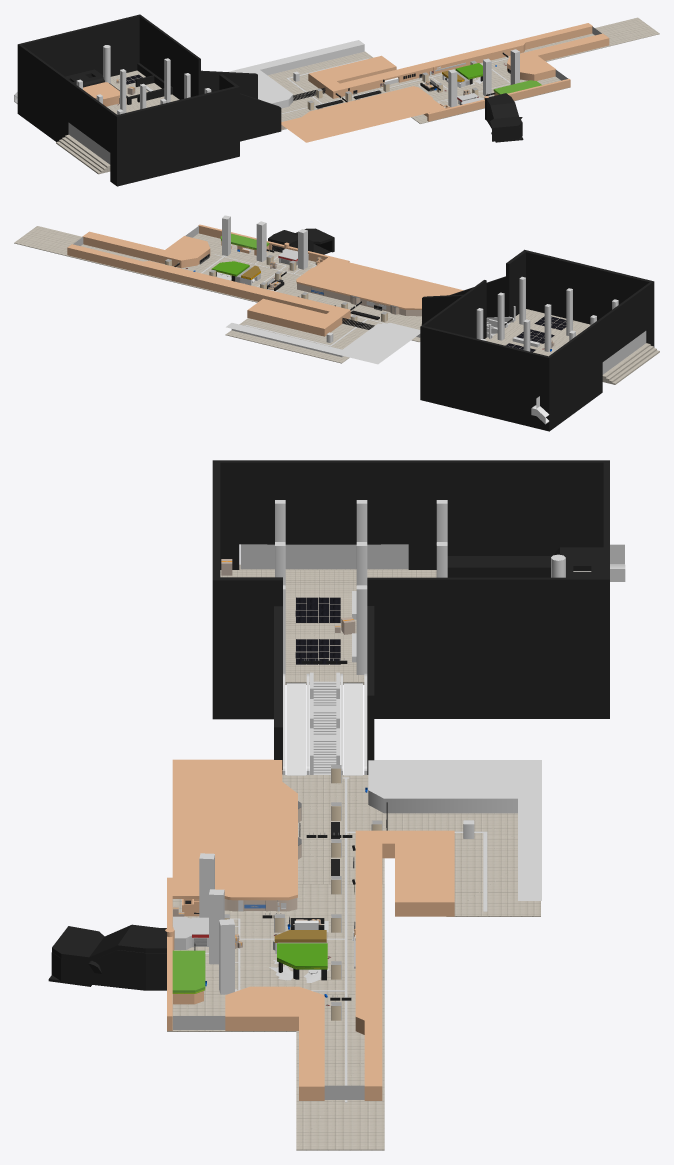
The model's file is stage1-1 (2).FBX.
3 views of the same model, one above another, from view 1: azimuth 30°, elevation 25°; view 2: azimuth 150°, elevation 25°; view 3: azimuth 270°, elevation 25° (orthographic). The views are drawn at different scales.
Parts seen in each view (by area): view 1: Box110, Box001, Box047, Box008, Box086, Box085, Box111, Box017, Box130, Box066, Box133, Box137 (+10 smaller); view 2: Box110, Box001, Box047, Box008, Box086, Box111, Box085, Box002, Box066, Box017, Box137, Box057 (+6 smaller); view 3: Box110, Box001, Box008, Box047, Box086, Box111, Box085, Box137, Box062, Box066, Box134, Box100 (+10 smaller).
Boxes of the visible parts, bbox=[...] form: Box110: bbox=[17, 14, 281, 186]; Box001: bbox=[268, 17, 659, 130]; Box047: bbox=[308, 23, 592, 98]; Box008: bbox=[281, 86, 445, 142]; Box086: bbox=[228, 40, 364, 108]; Box085: bbox=[507, 33, 609, 80]; Box111: bbox=[56, 70, 179, 174]; Box017: bbox=[427, 79, 570, 121]; Box130: bbox=[65, 63, 172, 104]; Box066: bbox=[485, 93, 522, 130]; Box133: bbox=[83, 82, 119, 106]; Box137: bbox=[68, 123, 110, 164]; Box110: bbox=[420, 249, 654, 431]; Box001: bbox=[14, 226, 421, 363]; Box047: bbox=[67, 244, 350, 336]; Box008: bbox=[296, 257, 463, 309]; Box086: bbox=[226, 323, 420, 364]; Box111: bbox=[485, 309, 659, 384]; Box085: bbox=[82, 231, 210, 268]; Box002: bbox=[297, 283, 421, 316]; Box066: bbox=[268, 228, 334, 246]; Box017: bbox=[198, 224, 349, 262]; Box137: bbox=[602, 331, 646, 374]; Box057: bbox=[201, 254, 384, 346]; Box110: bbox=[212, 460, 609, 774]; Box001: bbox=[167, 775, 540, 1150]; Box008: bbox=[172, 759, 297, 900]; Box047: bbox=[355, 830, 454, 1100]; Box086: bbox=[368, 760, 541, 900]; Box111: bbox=[220, 564, 590, 684]; Box085: bbox=[225, 986, 324, 1100]; Box137: bbox=[240, 544, 408, 569]; Box062: bbox=[51, 950, 166, 990]; Box066: bbox=[52, 924, 166, 961]; Box134: bbox=[447, 556, 551, 577]; Box100: bbox=[313, 681, 336, 774].
Size of the model in its own units: 34826 by 4777 by 15095.
